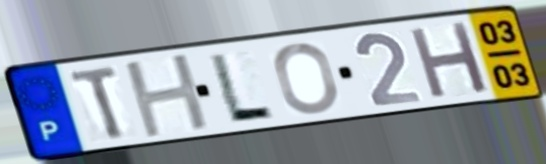2: (352, 30, 427, 109)
H: (120, 50, 216, 142), (405, 18, 493, 103)
L: (206, 50, 279, 123)
O: (270, 40, 342, 116)
T: (66, 62, 130, 143)
